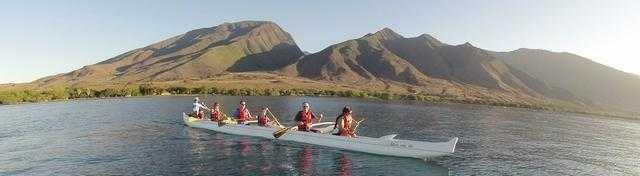kayak: (185, 103, 457, 158)
